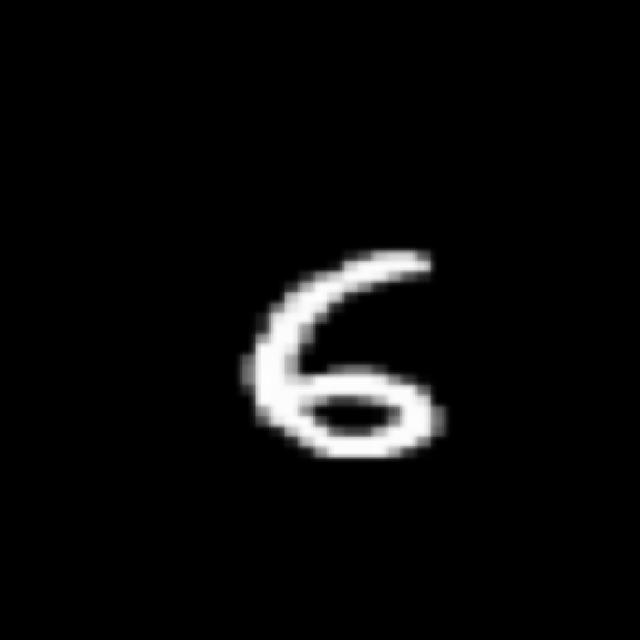six -6-: (241, 242, 457, 464)
